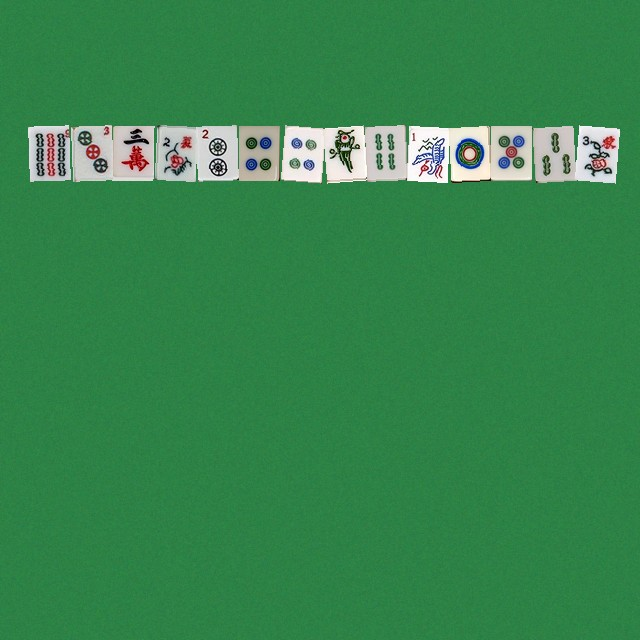tile: (28, 125, 69, 180), (70, 125, 111, 180), (112, 125, 153, 180), (154, 125, 195, 180), (196, 125, 237, 180), (238, 125, 279, 180), (280, 125, 321, 180), (322, 125, 363, 180), (364, 125, 405, 180), (406, 125, 447, 180), (448, 125, 489, 180), (490, 125, 531, 180), (532, 125, 573, 180), (574, 125, 615, 180)
